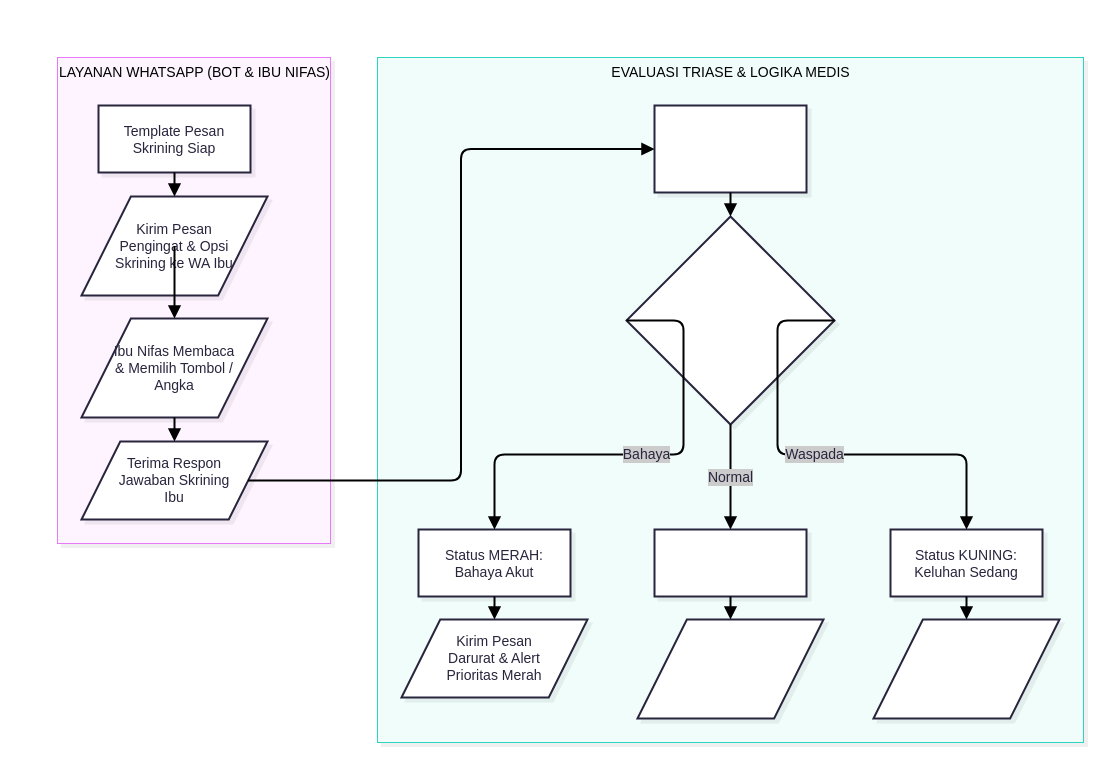
This 1105x764 diagram has some shape labels left out. Each missing label, with the centre of its shape:
Ekstraksi Jawaban Skrining Ibu: (732,150)
Hasil Skrining Gejala Sesuai Buku KIA?: (732,322)
Kirim Kontak Bidan PJ & Alert Pantauan ke PWA: (968,670)
Kirim Pesan Edukasi Perawatan Nifas & ASI: (732,670)
Status HIJAU: Normal / Aman: (732,564)
